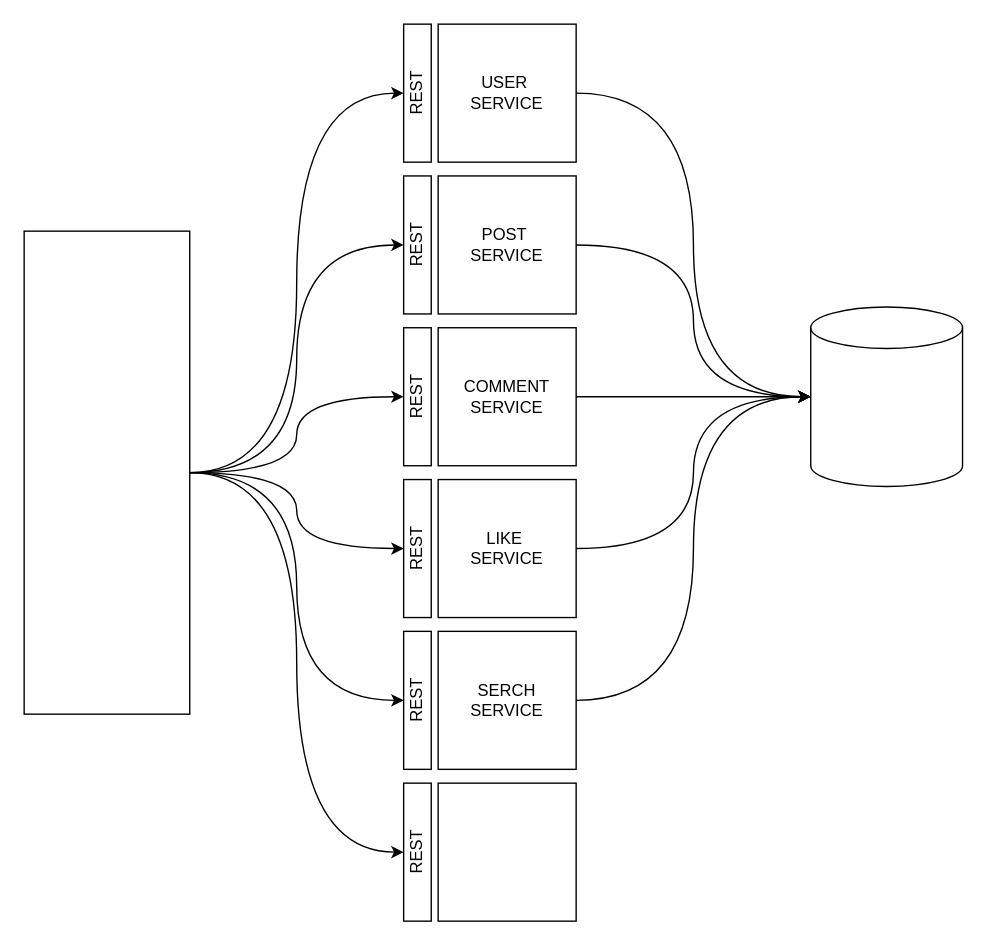
Image size: 987x945. Some labels were removed from this diagram. Each missing label, with the box of its shape:
GATEWAY LIKE AGGRAGATOR: (23, 230, 190, 714)
NOTIFICATION SERVICE: (437, 782, 576, 921)
SHARED PG: (809, 306, 963, 486)
